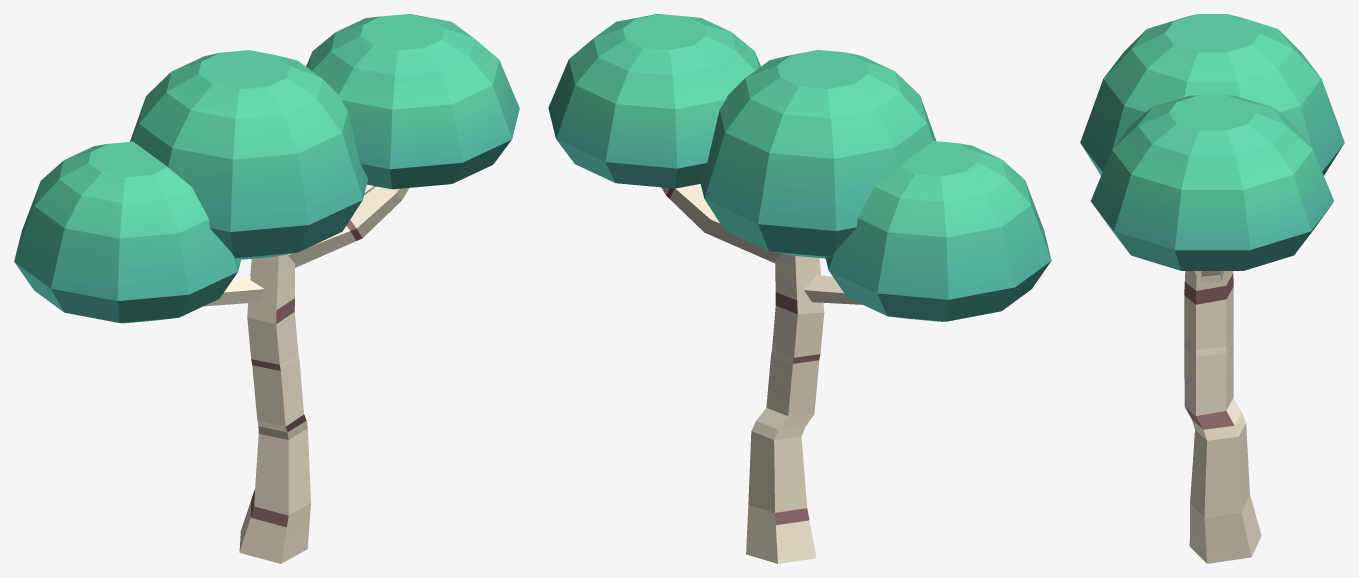
File: smallbirch.obj
3 renders of one model, left to right at view 1: azimuth 30°, elevation 25°; view 2: azimuth 150°, elevation 25°; view 3: azimuth 270°, elevation 25°, orthographic. The views are drawn at different scales.
Parts seen in each view (by area): view 1: small_birch; view 2: small_birch; view 3: small_birch.
Part boxes in pixels (x1=…): small_birch: x1=14, y1=14, x2=519, y2=563; small_birch: x1=548, y1=14, x2=1051, y2=563; small_birch: x1=1080, y1=14, x2=1344, y2=563.
Bounding box in the file's own units: 9.7 × 9.73 × 4.66.
Materials: 1 (1 with a texture image).
